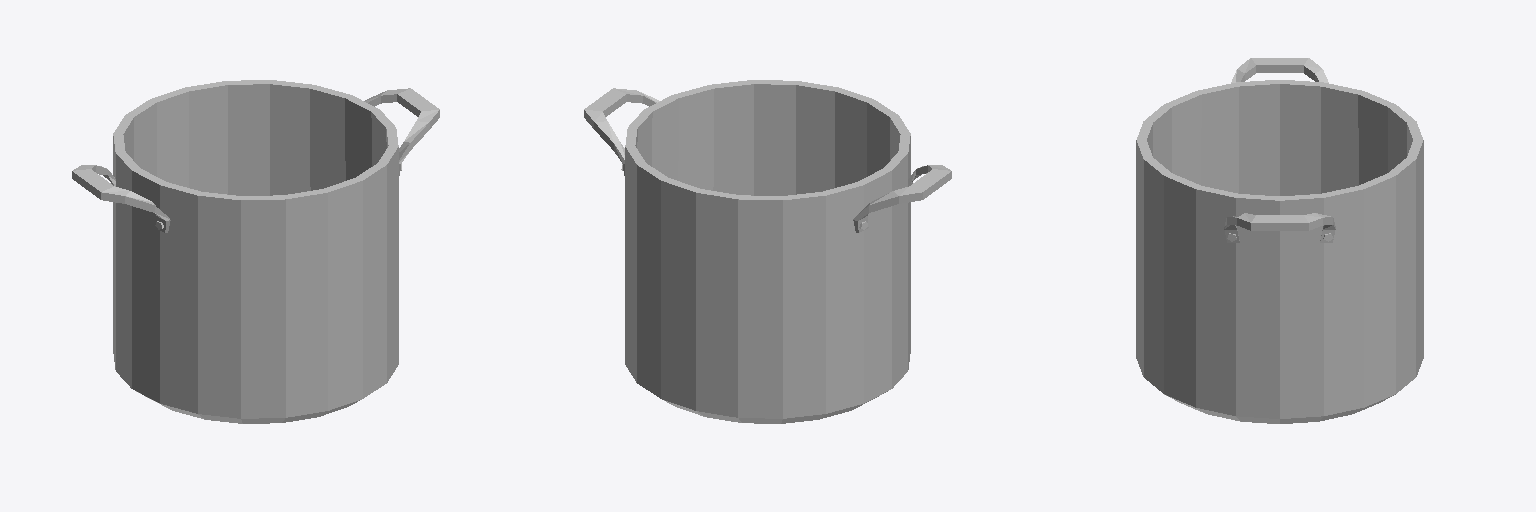
File: StockPot.obj
The picture shows the model from 3 angles: view 1: azimuth 30°, elevation 25°; view 2: azimuth 150°, elevation 25°; view 3: azimuth 270°, elevation 25°; orthographic projection.
Visible parts, largest first — view 1: pCube3; view 2: pCube3; view 3: pCube3.
Part boxes in pixels (x1,y1,x2,y2): pCube3: (72,80,439,423); pCube3: (584,80,951,423); pCube3: (1136,58,1423,423).
Bounding box in the file's own units: 28.16 × 18.39 × 20.65.